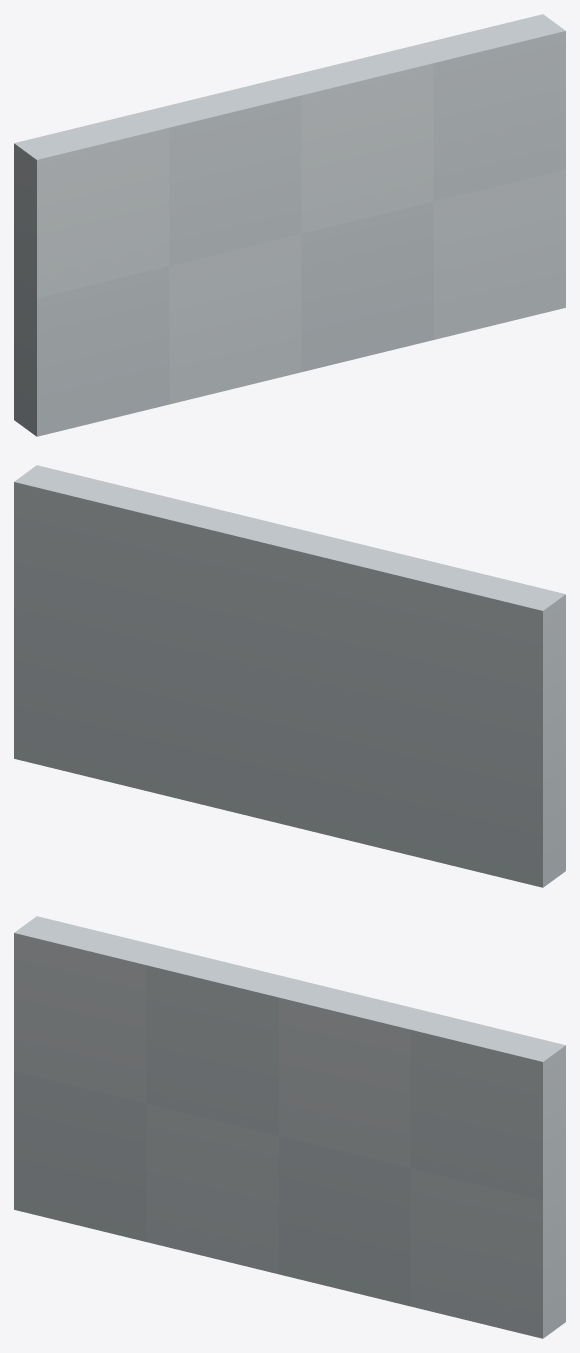
File: wall_tiles_A.obj
3 renders of one model, top to bottom at view 1: azimuth 30°, elevation 25°; view 2: azimuth 150°, elevation 25°; view 3: azimuth 330°, elevation 25°, orthographic.
Parts seen in each view (by area): view 1: wall_tiles_A_Cube.438; view 2: wall_tiles_A_Cube.438; view 3: wall_tiles_A_Cube.438.
Part boxes in pixels (left/top/right/bottom): wall_tiles_A_Cube.438: left=14, top=14, right=565, bottom=436; wall_tiles_A_Cube.438: left=14, top=465, right=565, bottom=887; wall_tiles_A_Cube.438: left=14, top=916, right=565, bottom=1338.
Bounding box in the file's own units: 2 × 1 × 0.15.
Materials: 1 (1 with a texture image).
